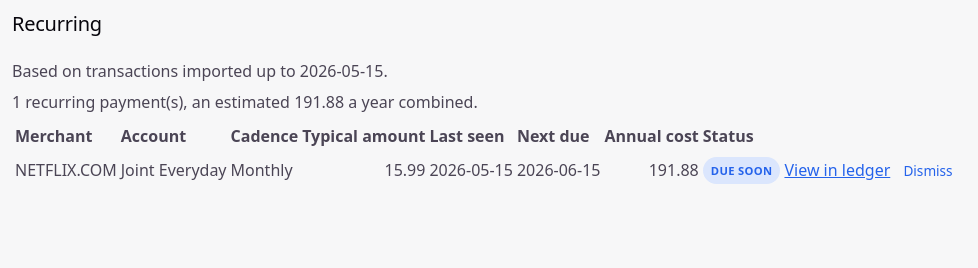
Scenario: RecurringPage › surfaces an action error without losing the loaded list
expect the text "NETFLIX.COM" is shown: met, box [14,153,118,188]
Click the button "Dismiss": click(928, 171) [894,154,962,187]
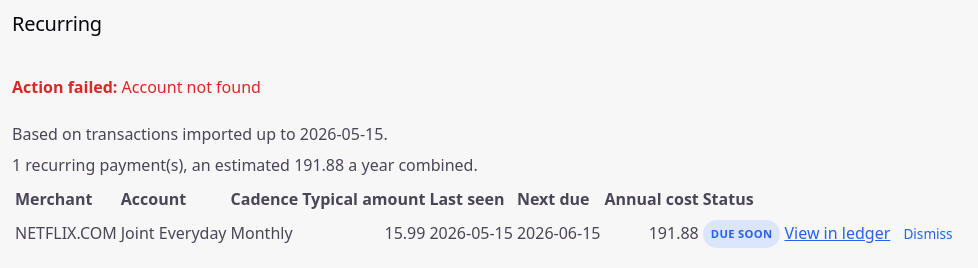
expect the text "NETFLIX.COM" is shown: met, box [14,216,118,252]
expect the text "Action failed: Account not found" is shown: met, box [12,76,261,98]
